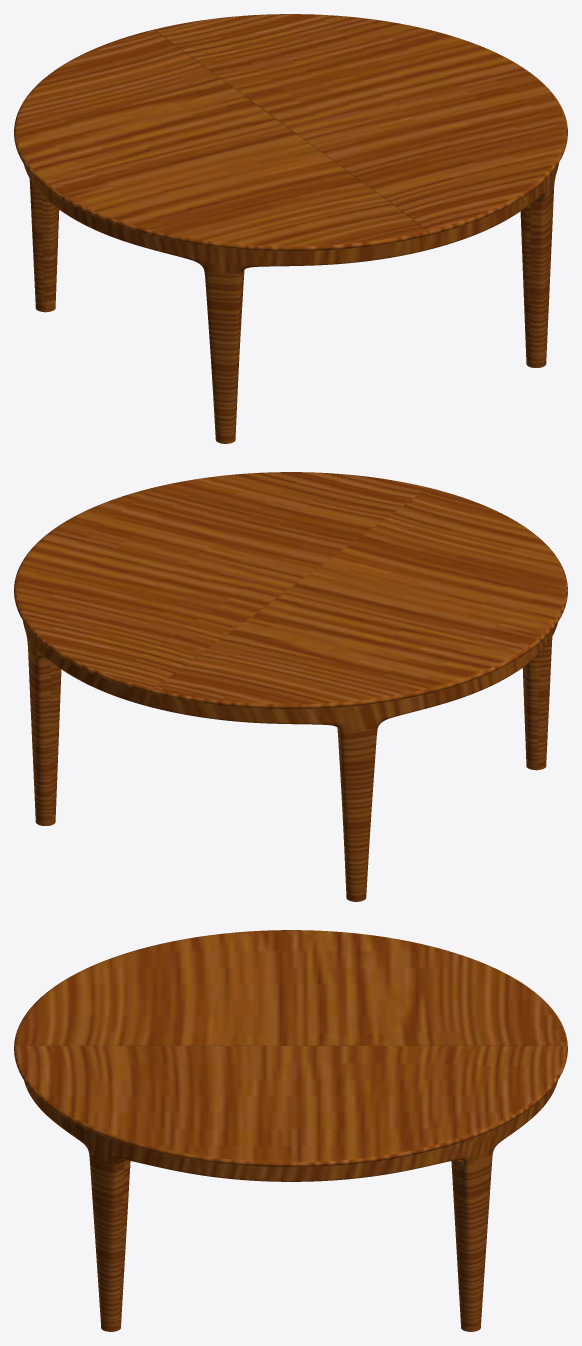
File: mesa.obj
3 renders of one model, top to bottom at view 1: azimuth 30°, elevation 25°; view 2: azimuth 150°, elevation 25°; view 3: azimuth 270°, elevation 25°, orthographic.
Parts seen in each view (by area): view 1: 62264_R133409DiningTable; view 2: 62264_R133409DiningTable; view 3: 62264_R133409DiningTable.
Part boxes in pixels (box(x1,y1,x2,y2)): 62264_R133409DiningTable: box(14, 14, 567, 443); 62264_R133409DiningTable: box(14, 472, 567, 901); 62264_R133409DiningTable: box(14, 930, 567, 1331).
Size of the model in its own units: 6.87 by 2.82 by 6.87.
Materials: 1 (1 with a texture image).
